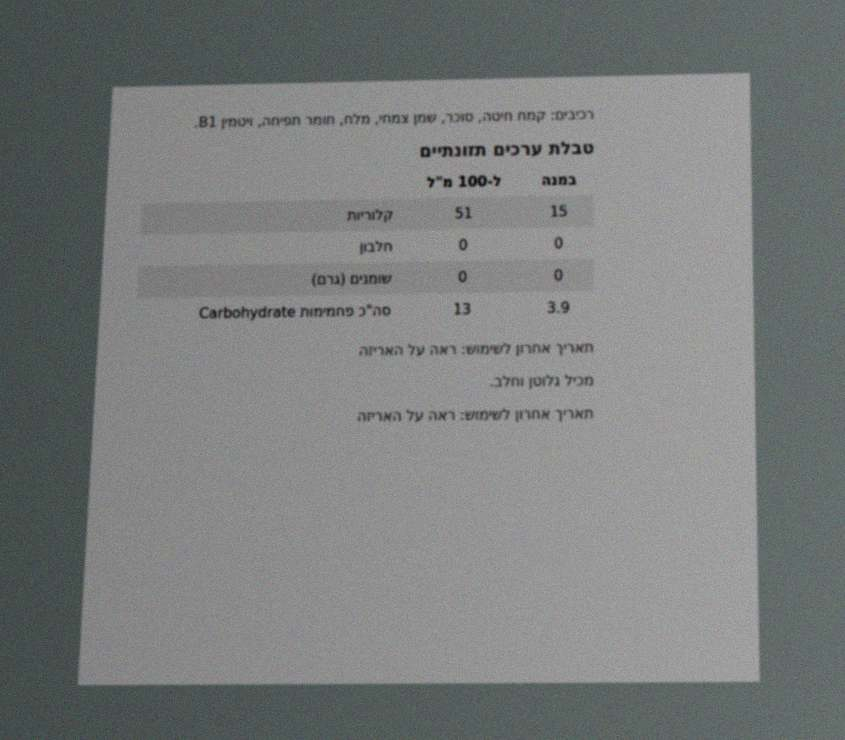carbs: (451, 298, 473, 320)
energy: (452, 202, 475, 224)
fat: (456, 266, 469, 288)
protein: (456, 234, 470, 256)
